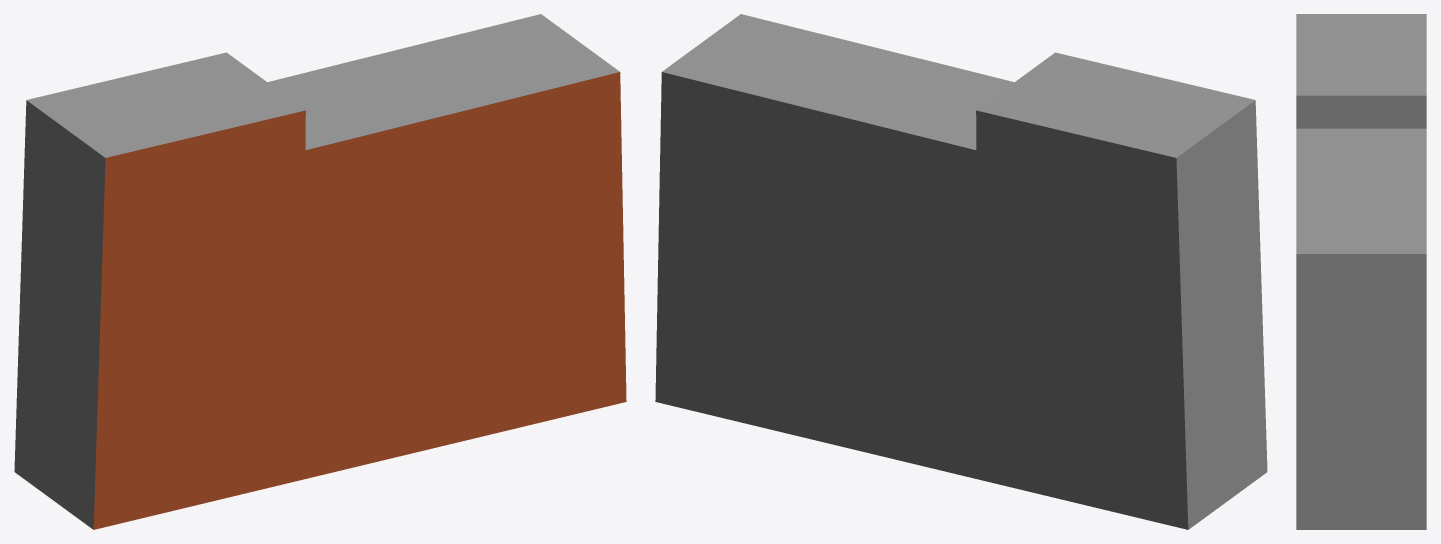
Rendered from construction_2666_assumed_A_Casa_h6m.obj.
The picture shows the model from 3 angles, left to right: view 1: azimuth 30°, elevation 25°; view 2: azimuth 150°, elevation 25°; view 3: azimuth 270°, elevation 25°; orthographic projection. The views are drawn at different scales.
Parts seen in each view (by area): view 1: construction_2666_assumed_A_Casa; view 2: construction_2666_assumed_A_Casa; view 3: construction_2666_assumed_A_Casa.
Boxes of the visible parts, <box> form: construction_2666_assumed_A_Casa: <box>14,14,626,529</box>; construction_2666_assumed_A_Casa: <box>655,14,1267,529</box>; construction_2666_assumed_A_Casa: <box>1296,14,1426,529</box>.
Size of the model in its own units: 23.32 by 15.52 by 6.
